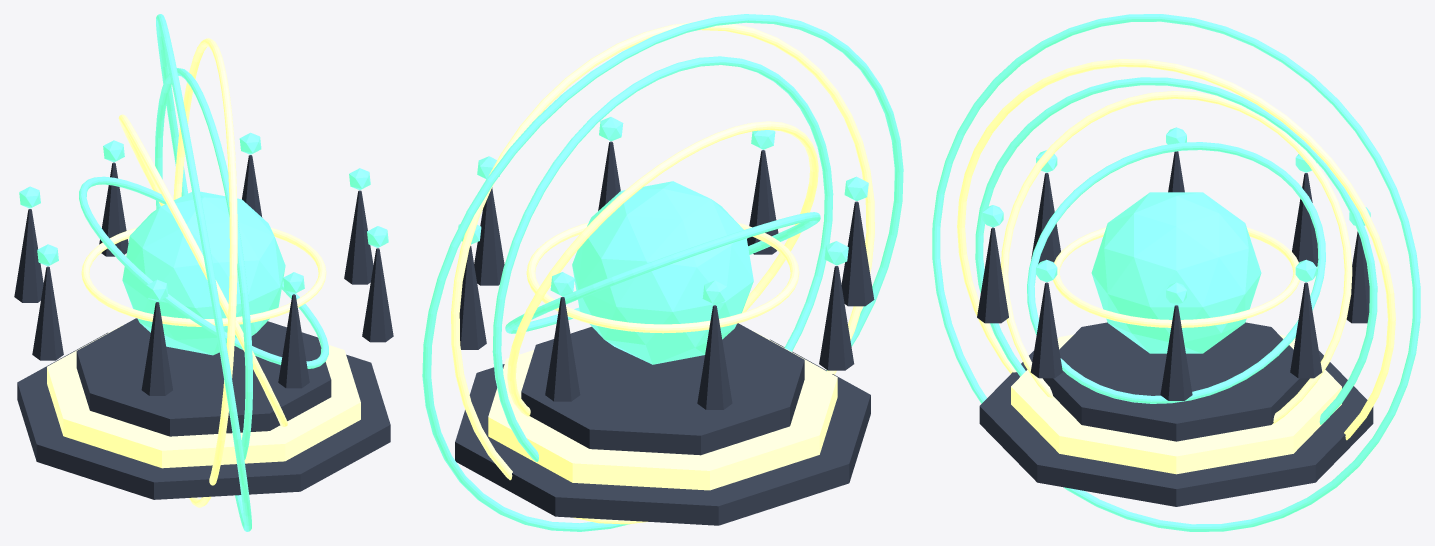
The model's file is gpu-blender-v21.glb.
The picture shows the model from 3 angles, left to right: view 1: azimuth 30°, elevation 25°; view 2: azimuth 150°, elevation 25°; view 3: azimuth 270°, elevation 25°; orthographic projection. The views are drawn at different scales.
Visible parts, largest first — view 1: Cylinder.002, Cylinder, SovereignCore_agent-budget-sentinel, Cylinder.001, Torus.005, Torus.004, Torus.003, Torus.001, Torus, Torus.002, Cone.007, Cone.006 (+6 smaller); view 2: Cylinder.002, SovereignCore_agent-budget-sentinel, Cylinder, Cylinder.001, Torus.005, Torus.004, Torus.003, Torus.002, Torus.001, Torus, Cone.004, Cone.002 (+6 smaller); view 3: SovereignCore_agent-budget-sentinel, Cylinder.002, Cylinder, Cylinder.001, Torus.005, Torus.004, Torus.003, Torus.002, Torus.001, Torus, Cone.001, Cone.007 (+5 smaller).
Boxes of the visible parts, box(x1,y1,x2,y2) form: Cylinder.002: box(76, 318, 331, 436); Cylinder: box(17, 332, 390, 499); SovereignCore_agent-budget-sentinel: box(122, 191, 285, 355); Cylinder.001: box(47, 325, 360, 468); Torus.005: box(156, 14, 251, 531); Torus.004: box(173, 38, 237, 507); Torus.003: box(155, 68, 252, 459); Torus.001: box(79, 176, 328, 368); Torus: box(81, 227, 326, 326); Torus.002: box(118, 114, 287, 426); Cone.007: box(362, 248, 393, 342); Cone.006: box(278, 294, 309, 388); Cylinder.002: box(521, 323, 804, 455); SovereignCore_agent-budget-sentinel: box(572, 181, 753, 364); Cylinder: box(455, 339, 870, 525); Cylinder.001: box(488, 330, 837, 490); Torus.005: box(422, 14, 903, 531); Torus.004: box(451, 22, 874, 524); Torus.003: box(492, 56, 833, 461); Torus.002: box(507, 121, 818, 416); Torus.001: box(505, 212, 820, 333); Torus: box(526, 222, 799, 333); Cone.004: box(819, 266, 854, 370); Cone.002: box(545, 297, 580, 401); SovereignCore_agent-budget-sentinel: box(1091, 192, 1261, 353); Cylinder.002: box(1043, 322, 1309, 441); Cylinder: box(979, 351, 1373, 506); Cylinder.001: box(1011, 334, 1341, 474); Torus.005: box(932, 14, 1420, 531); Torus.004: box(957, 59, 1395, 440); Torus.003: box(975, 77, 1377, 424); Torus.002: box(1001, 91, 1352, 423); Torus.001: box(1027, 142, 1325, 403); Torus: box(1053, 227, 1299, 327); Cone.001: box(1290, 282, 1322, 378); Cone.007: box(1030, 282, 1062, 378).
Bounding box in the file's own units: 4.41 × 5.93 × 5.46.
